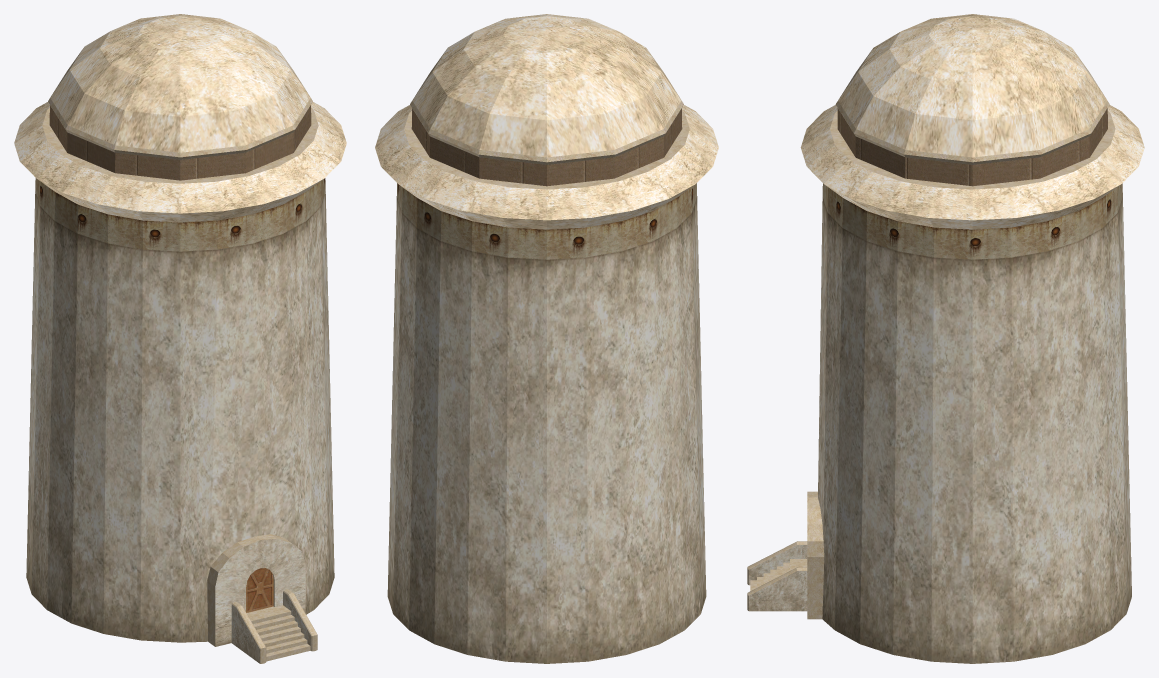
Rendered from thm_tato_imprv_building_s09_l0.fbx.
3 renders of one model, left to right at view 1: azimuth 30°, elevation 25°; view 2: azimuth 150°, elevation 25°; view 3: azimuth 270°, elevation 25°, orthographic. The views are drawn at different scales.
Visible parts, largest first — view 1: mesh_node; view 2: mesh_node; view 3: mesh_node.
Boxes of the visible parts, x1,y1,x2,y2 form: mesh_node: (14, 14, 346, 663); mesh_node: (375, 14, 718, 663); mesh_node: (747, 14, 1144, 663).
Bounding box in the file's own units: 21.87 × 39.78 × 25.27.
